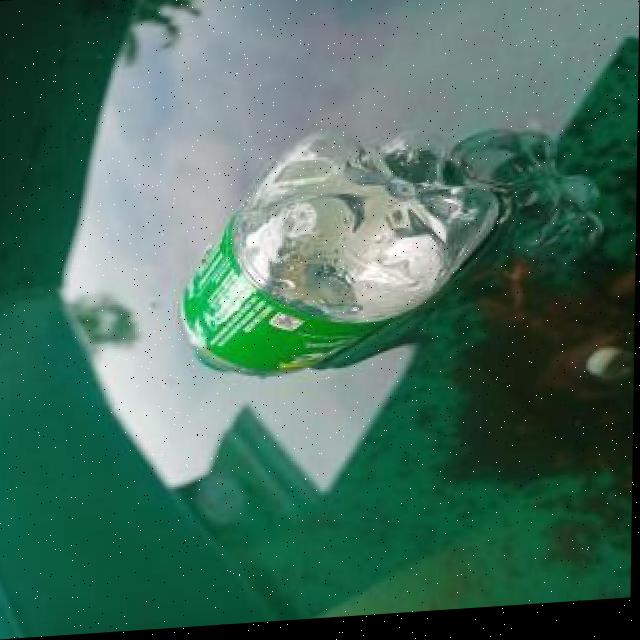bottle: (172, 122, 499, 387)
